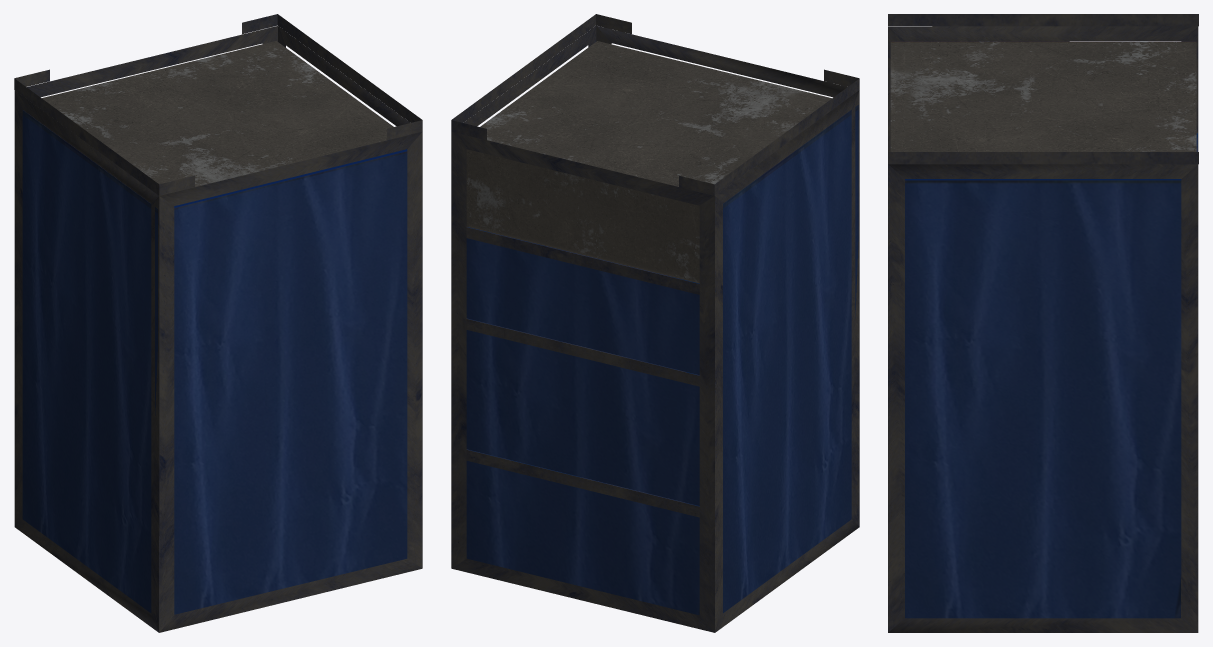
File: tieyun01_01.FBX
The picture shows the model from 3 angles, left to right: view 1: azimuth 30°, elevation 25°; view 2: azimuth 150°, elevation 25°; view 3: azimuth 270°, elevation 25°; orthographic projection. The views are drawn at different scales.
Parts seen in each view (by area): view 1: YF_Model_tieyun01_01; view 2: YF_Model_tieyun01_01; view 3: YF_Model_tieyun01_01.
Part boxes in pixels (x1=…): YF_Model_tieyun01_01: x1=14, y1=14, x2=422, y2=632; YF_Model_tieyun01_01: x1=451, y1=14, x2=859, y2=632; YF_Model_tieyun01_01: x1=888, y1=14, x2=1198, y2=632.
Bounding box in the file's own units: 126 × 205 × 120.
Materials: 2 (2 with a texture image).
